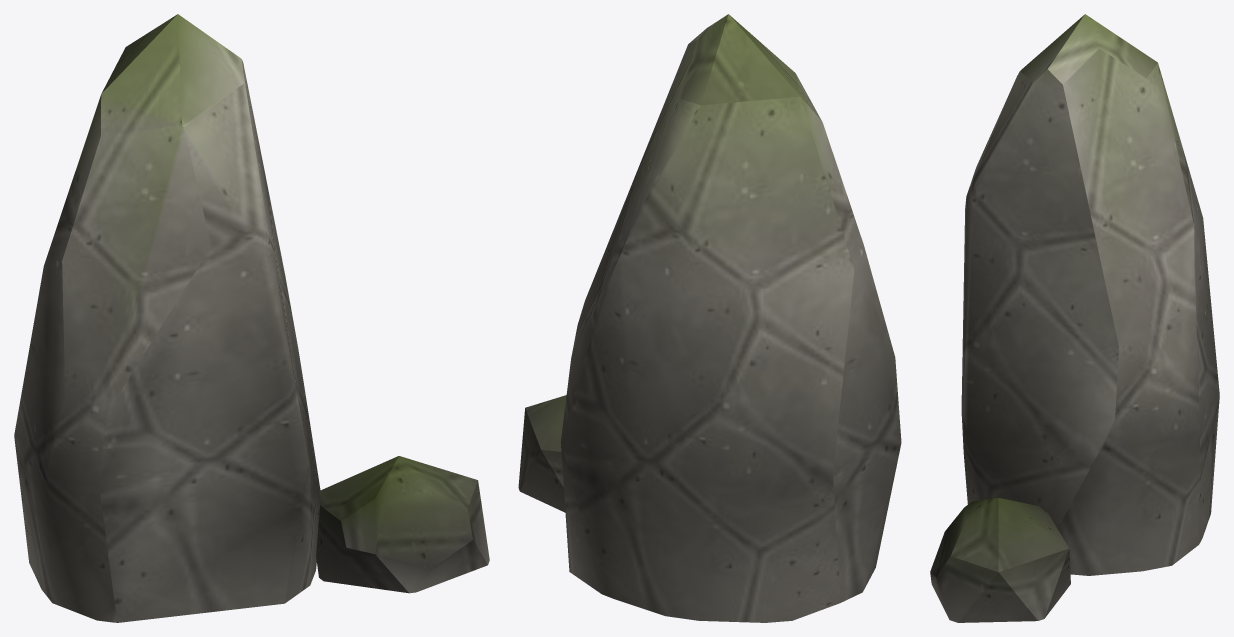
The model's file is rock_field_c.glb.
3 views of the same model, side by side, from view 1: azimuth 30°, elevation 25°; view 2: azimuth 150°, elevation 25°; view 3: azimuth 270°, elevation 25° (orthographic). The views are drawn at different scales.
Parts seen in each view (by area): view 1: rock_field_c; view 2: rock_field_c; view 3: rock_field_c.
Part boxes in pixels (<box>): rock_field_c: <box>14,14,489,622</box>; rock_field_c: <box>518,14,901,622</box>; rock_field_c: <box>930,14,1219,622</box>.
Bounding box in the file's own units: 0.9808 × 1.28 × 0.6705.
Materials: 1 (1 with a texture image).
